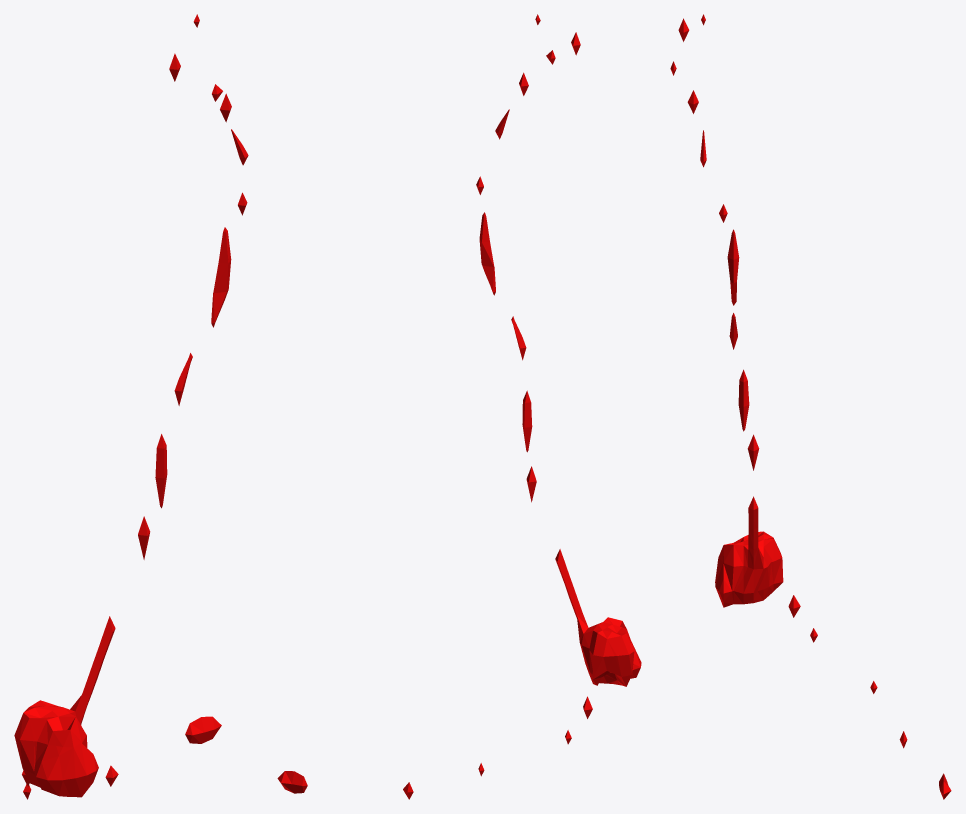
The model's file is mdoB_coarse.dae.
3 views of the same model, side by side, from view 1: azimuth 30°, elevation 25°; view 2: azimuth 150°, elevation 25°; view 3: azimuth 270°, elevation 25° (orthographic). The views are drawn at different scales.
Visible parts, largest first — view 1: mdoB; view 2: mdoB; view 3: mdoB.
Part boxes in pixels (left/top/right/bottom): mdoB: left=14, top=14, right=248, bottom=799; mdoB: left=277, top=14, right=641, bottom=799; mdoB: left=670, top=14, right=951, bottom=799.
Size of the model in its own units: 261 by 687 by 242.
